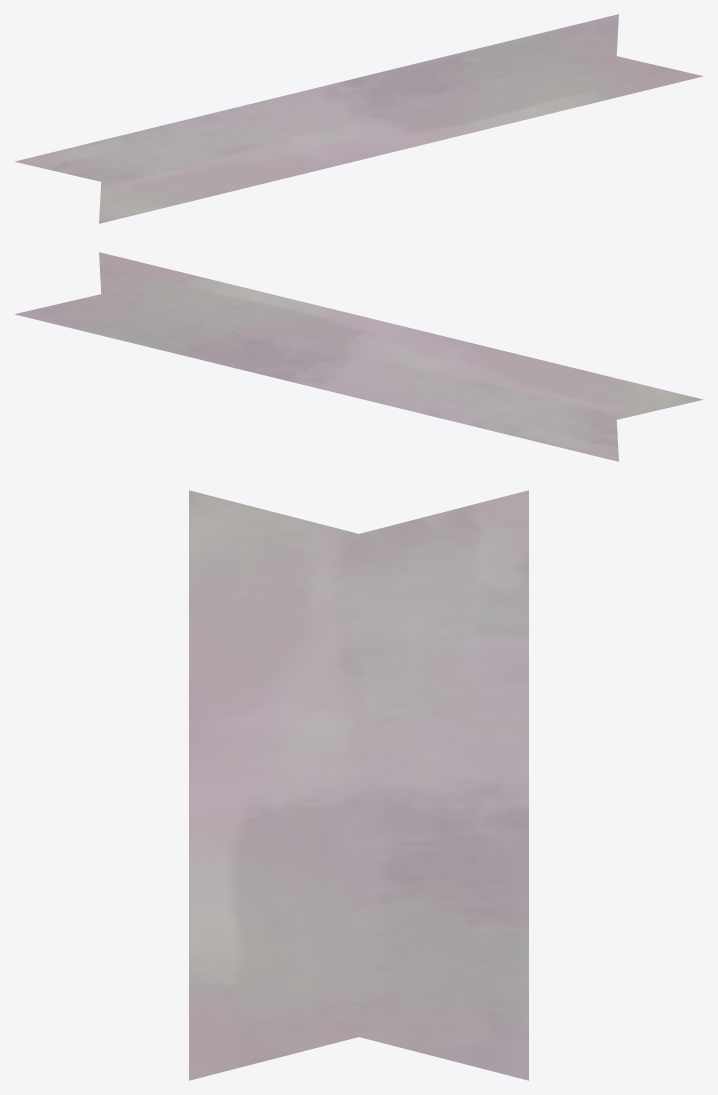
Rendered from Rug_1.fbx.
3 views of the same model, one above another, from view 1: azimuth 30°, elevation 25°; view 2: azimuth 150°, elevation 25°; view 3: azimuth 270°, elevation 25° (orthographic). The views are drawn at different scales.
Visible parts, largest first — view 1: Rug_1; view 2: Rug_1; view 3: Rug_1.
Part boxes in pixels (bbox=[...]): Rug_1: bbox=[15, 14, 702, 223]; Rug_1: bbox=[15, 252, 702, 461]; Rug_1: bbox=[189, 490, 528, 1080].
Bounding box in the file's own units: 147 × 1.18e-05 × 35.87.
